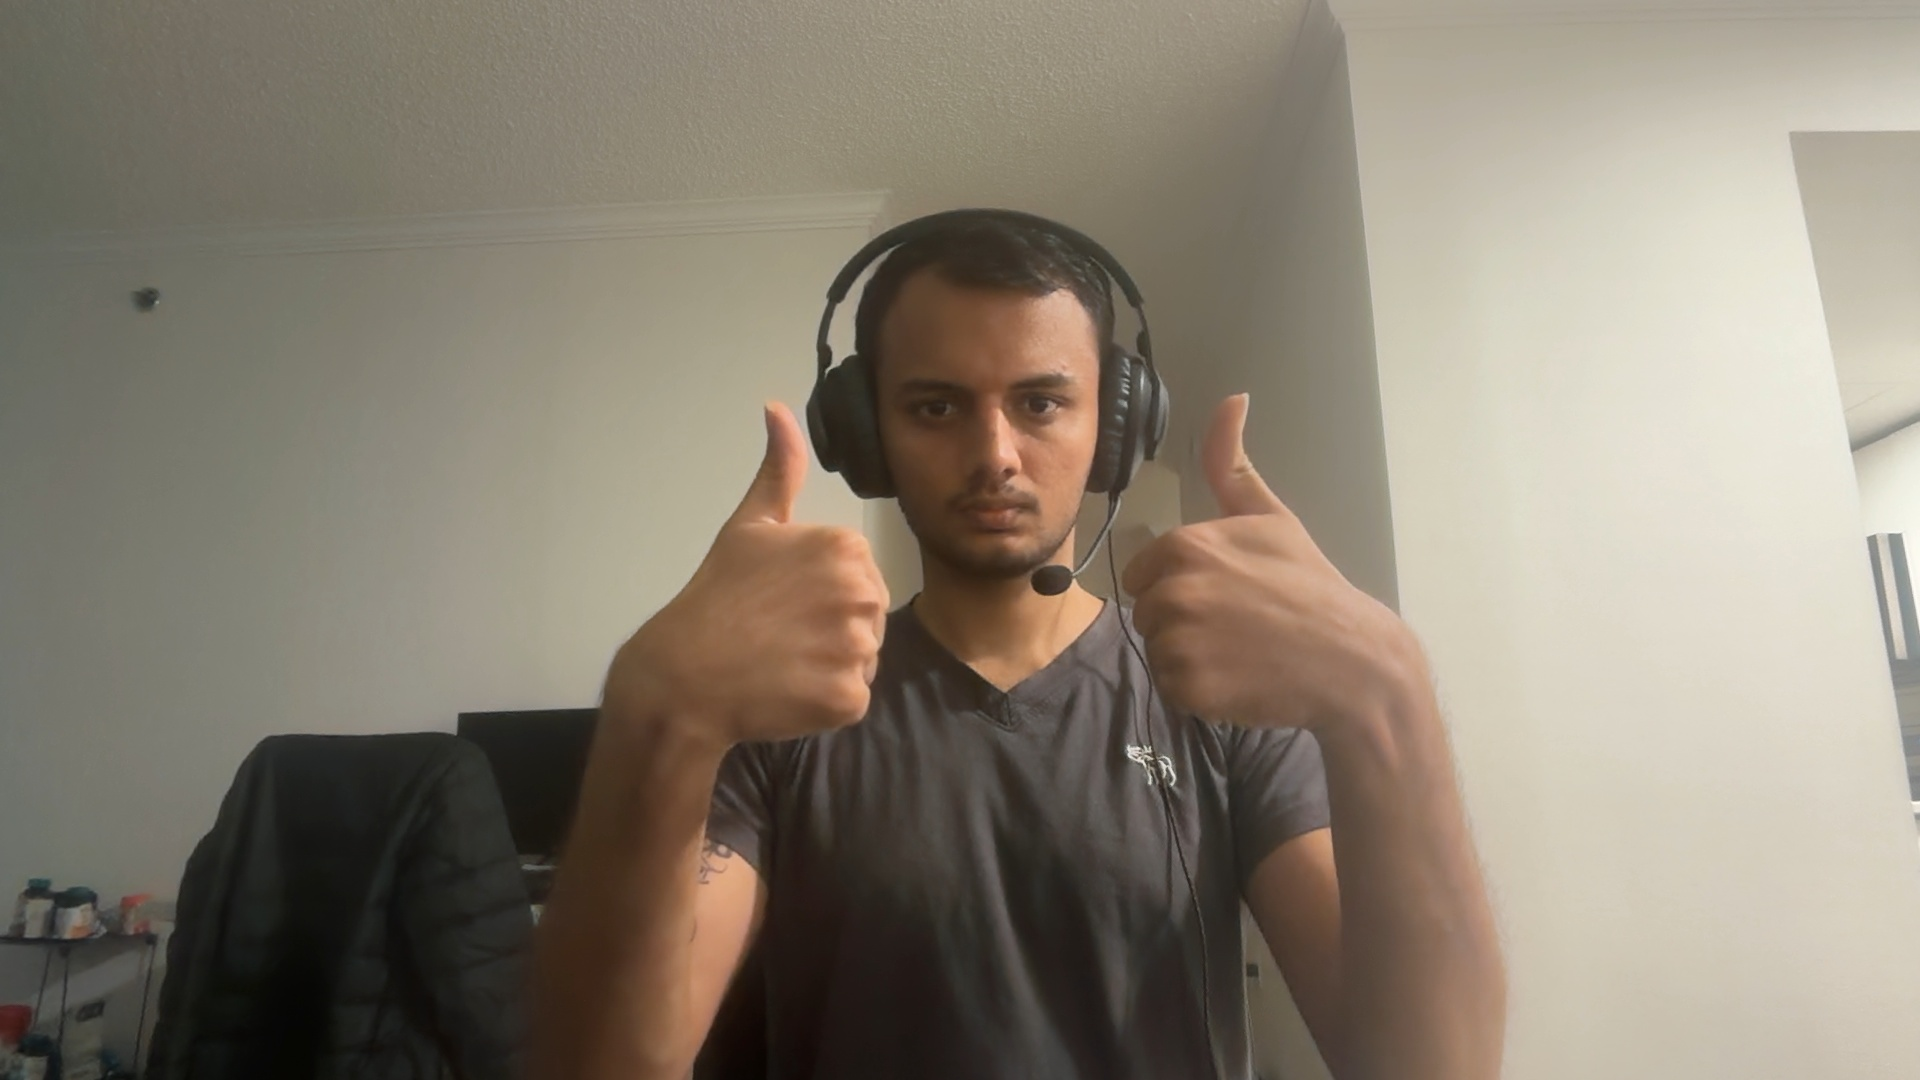thumbsup: (731, 401, 891, 742)
